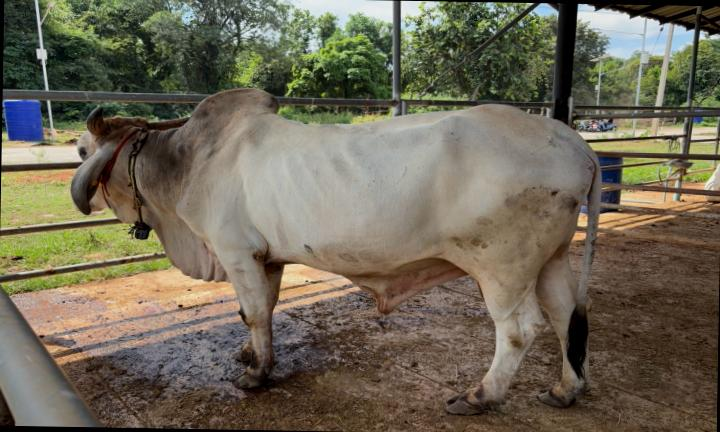Brahman: (71, 89, 600, 414)
